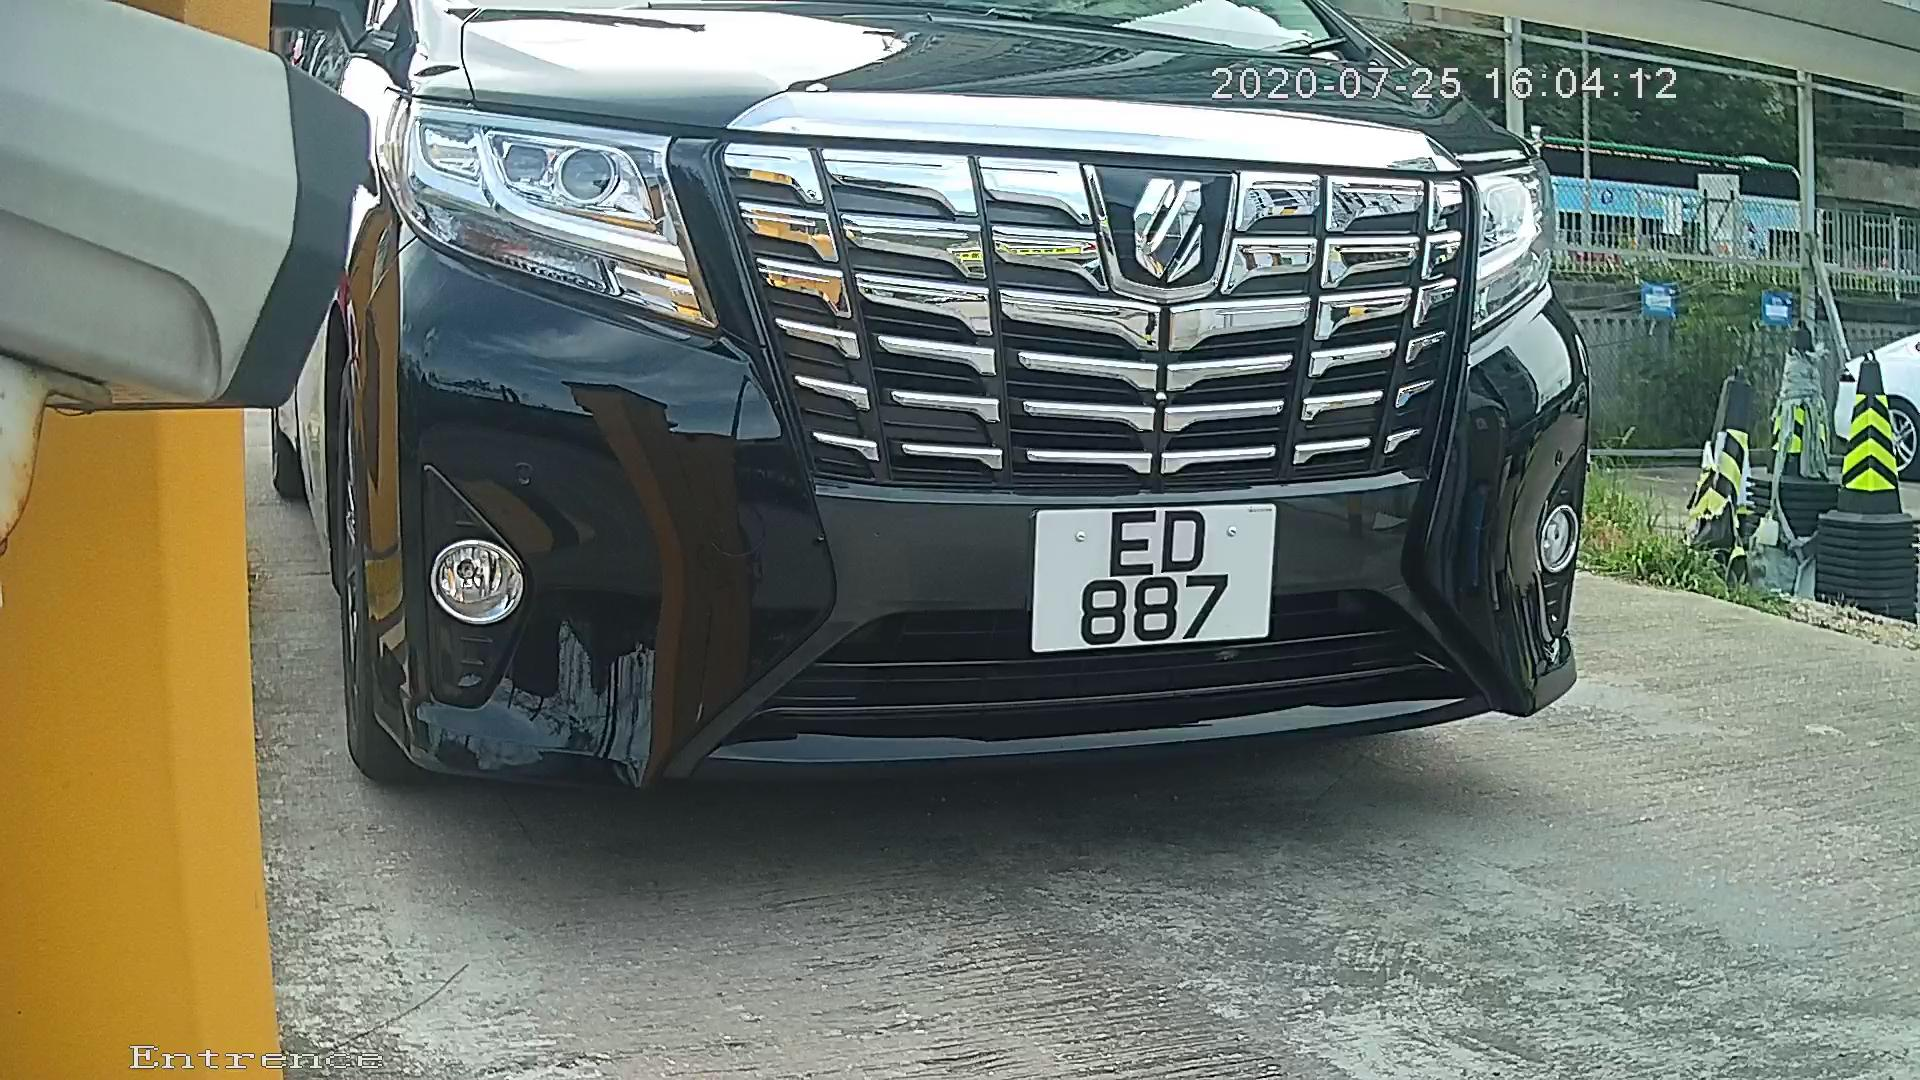License Plate: (1003, 478, 1295, 680)
